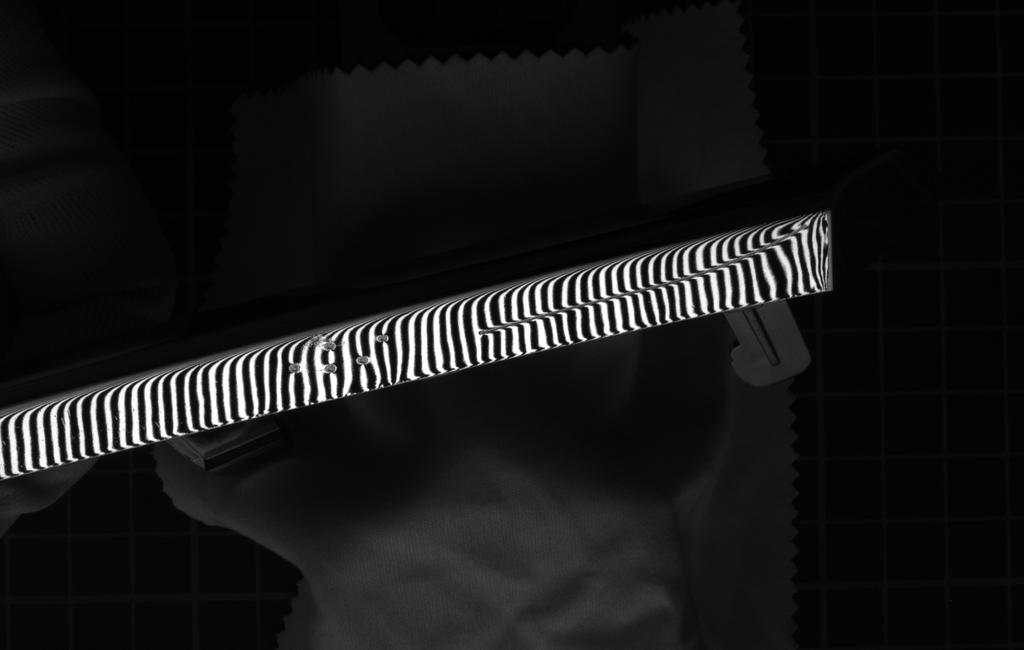Pierced: (319, 356, 344, 382), (283, 359, 307, 380), (369, 330, 394, 350), (349, 352, 375, 370), (317, 337, 340, 355)
Pitting: (303, 330, 331, 352)
Scratch: (469, 219, 821, 342)
